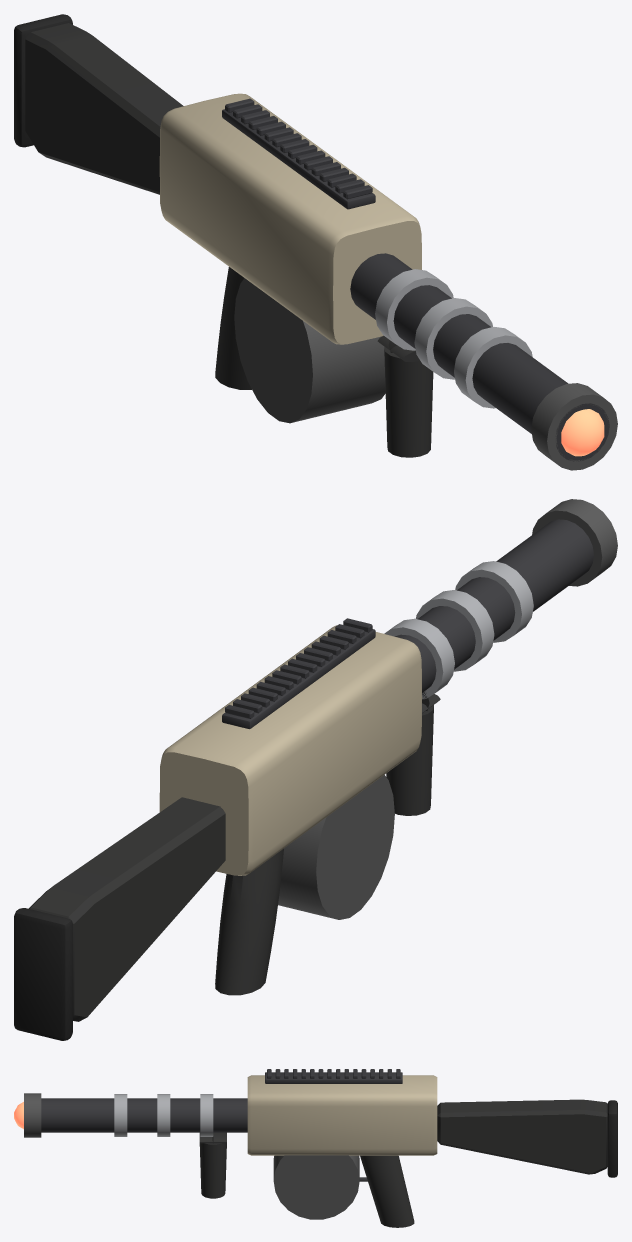
Rendered from limpetchain.glb.
3 views of the same model, one above another, from view 1: azimuth 30°, elevation 25°; view 2: azimuth 150°, elevation 25°; view 3: azimuth 270°, elevation 25° (orthographic). The views are drawn at different scales.
Visible parts, largest first — view 1: Body; view 2: Body; view 3: Body.
Boxes of the visible parts, x1,y1,x2,y2 form: Body: (14,14,617,470); Body: (14,499,617,1040); Body: (14,1069,617,1227).
Size of the model in its own units: 0.068 by 0.1925 by 0.7016.
